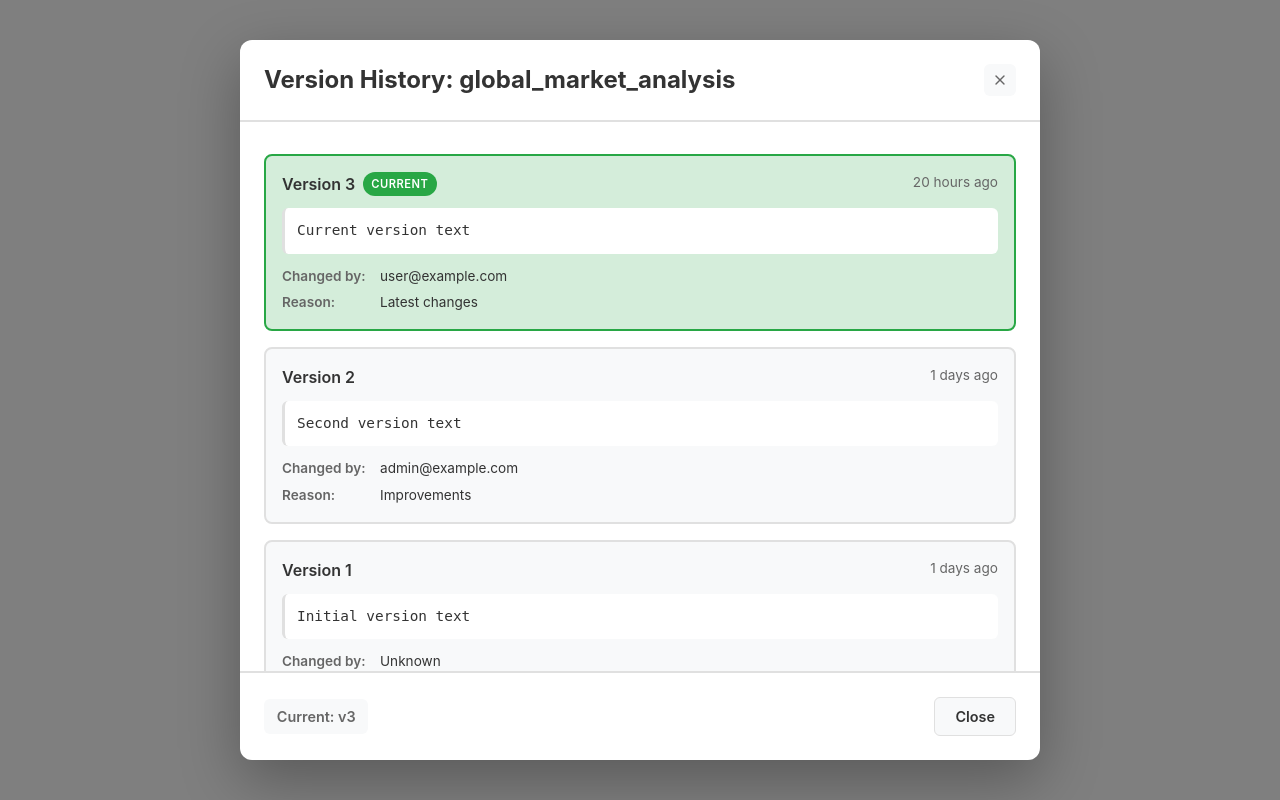
Test: PromptVersionHistory › Version Selection › should show restore button when a version is selected
expect the heading "Version 2" is shown: met, box [282, 365, 355, 389]
expect the button "Restore Version" is not shown: met
Click the 2nd list item at (640, 435), box [264, 347, 1016, 524]
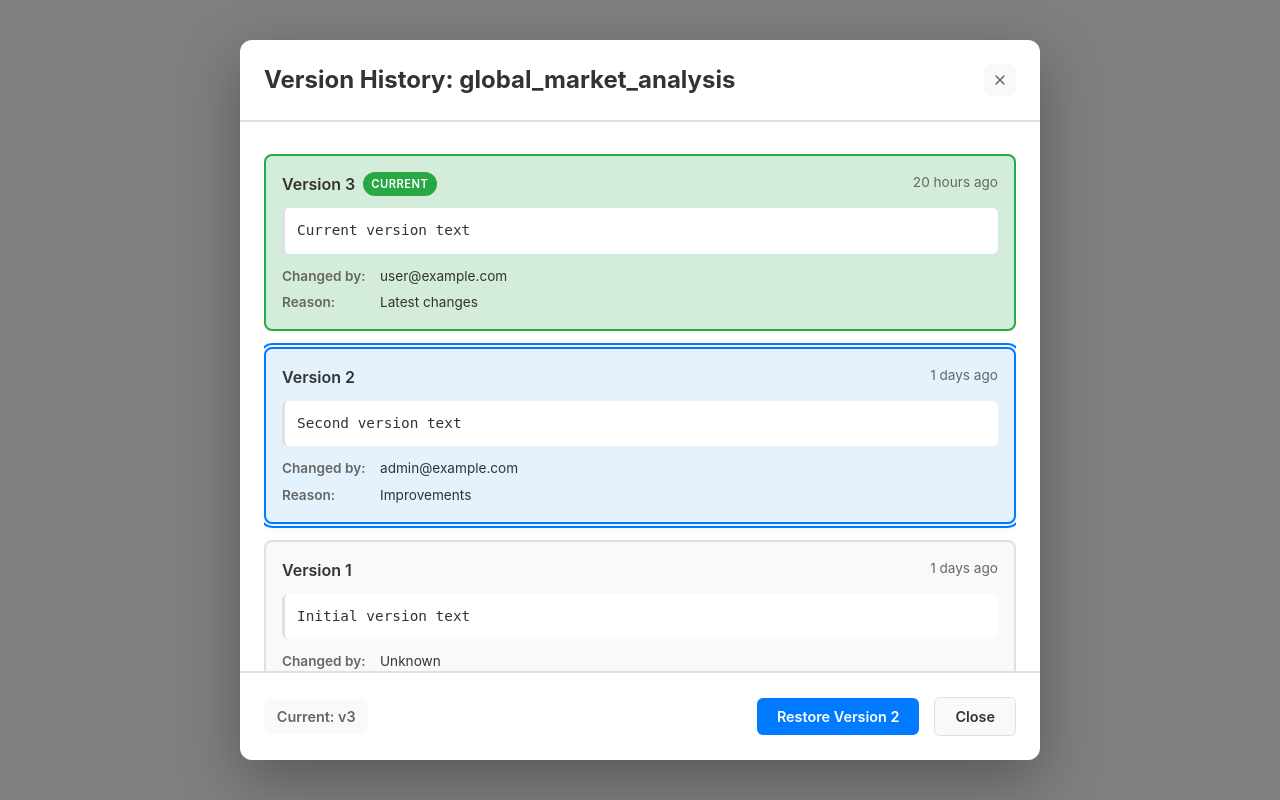
expect the button "Restore Version 2" is shown: met, box [757, 698, 920, 735]
